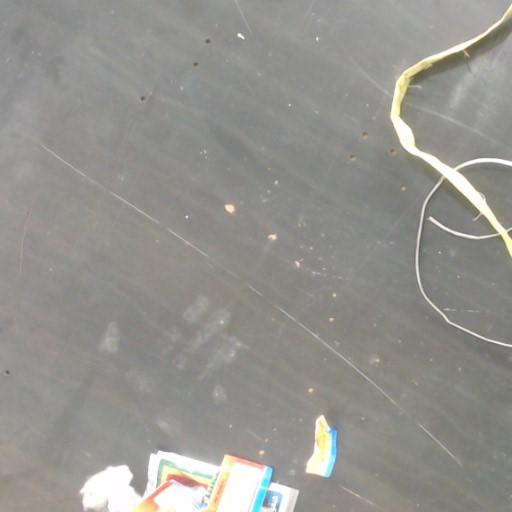conveyor belt: (403, 20, 511, 165), (420, 220, 511, 341), (427, 182, 491, 232), (462, 165, 511, 226)
cotton: (79, 465, 141, 511)
packet: (122, 451, 298, 511), (309, 417, 334, 475)
thread: (390, 4, 511, 347)
